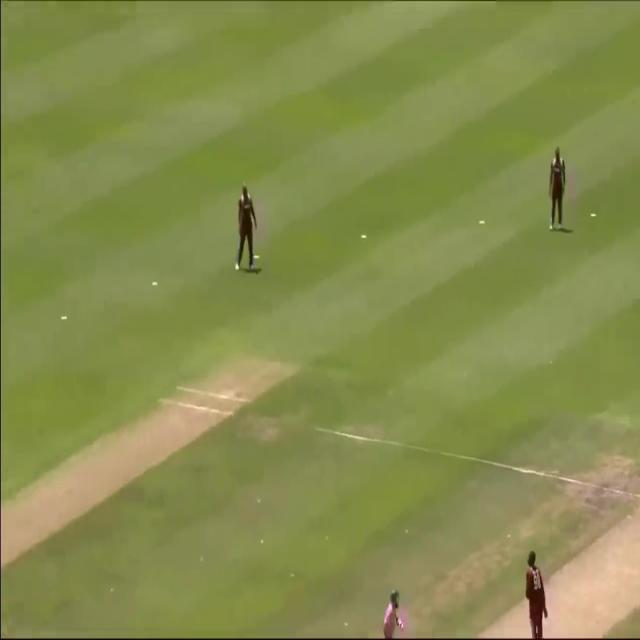Ball: (375, 582, 416, 638)
Fielder: (517, 544, 557, 635), (224, 180, 261, 273), (546, 146, 568, 231)
